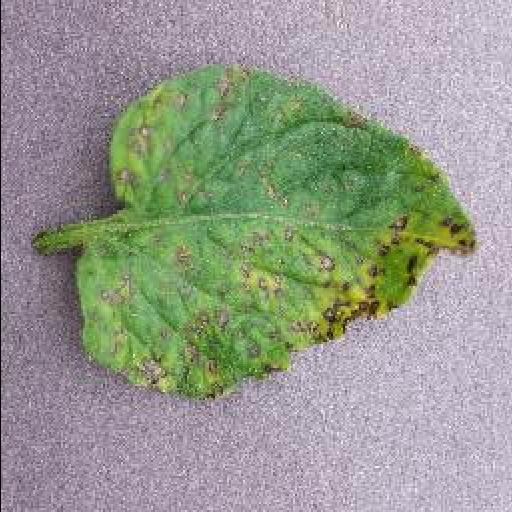disease_tomato: (74, 63, 476, 399)
